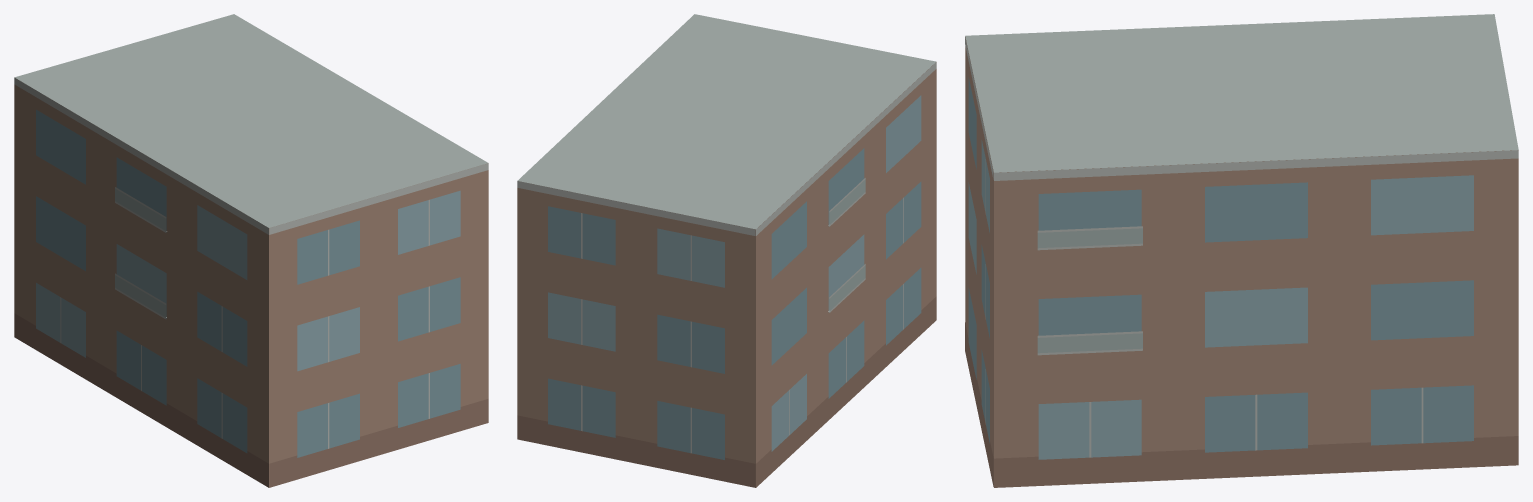
The model's file is survey-upis-32699410.glb.
The picture shows the model from 3 angles, left to right: view 1: azimuth 30°, elevation 25°; view 2: azimuth 150°, elevation 25°; view 3: azimuth 270°, elevation 25°; orthographic projection. The views are drawn at different scales.
Parts seen in each view (by area): view 1: survey-upis-32699410.tmp; view 2: survey-upis-32699410.tmp; view 3: survey-upis-32699410.tmp.
Part boxes in pixels (box(x1,y1,x2,y2)): survey-upis-32699410.tmp: box(14, 14, 488, 487); survey-upis-32699410.tmp: box(517, 14, 936, 487); survey-upis-32699410.tmp: box(965, 14, 1518, 487).
Size of the model in its own units: 9.89 by 9.15 by 14.58.
